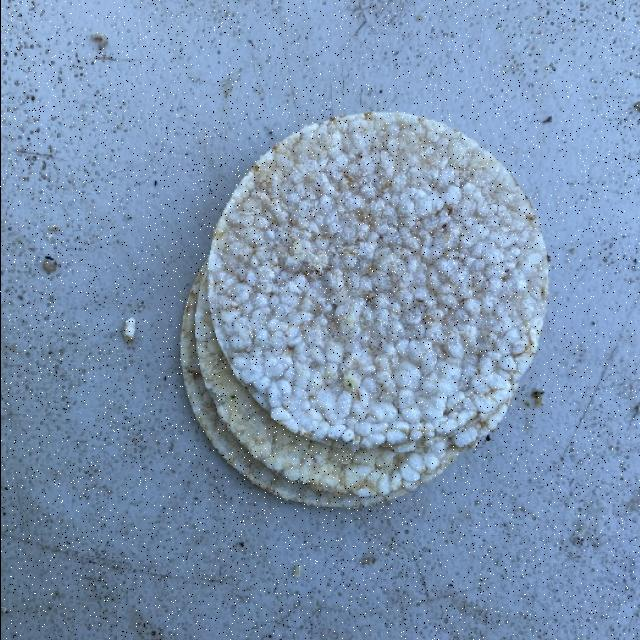organik: (198, 114, 542, 498)
